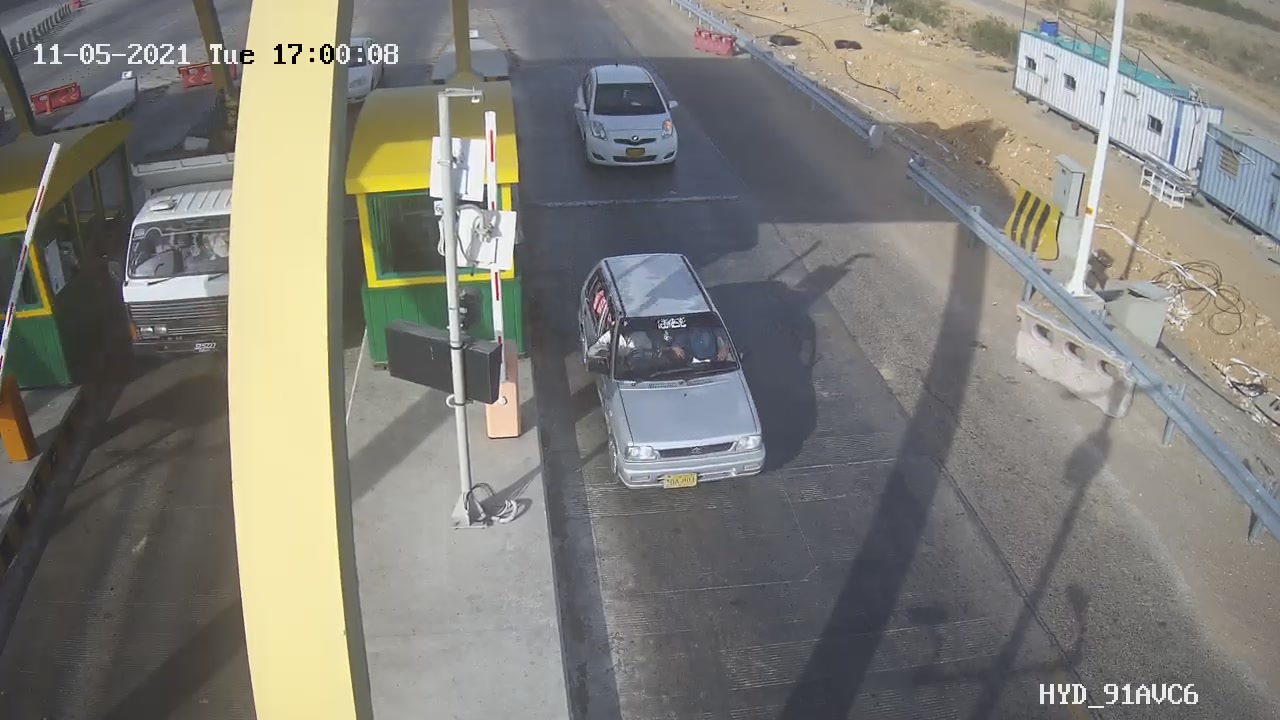F1: (559, 231, 790, 524), (559, 52, 698, 190)
